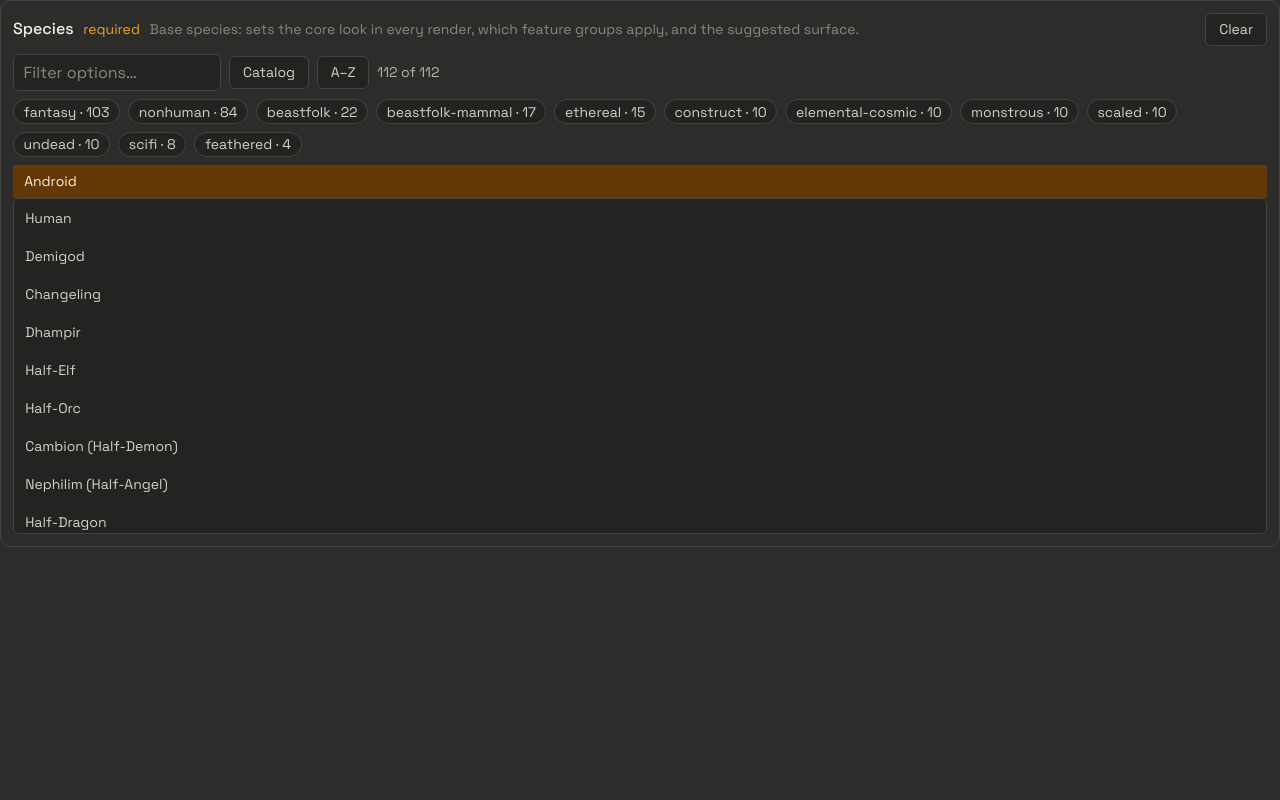
Scenario: sort modes (presentation only) › A–Z reorders; catalog restores the served order
Click the button "A–Z" at (343, 72), box left=317, top=56, right=369, bottom=89
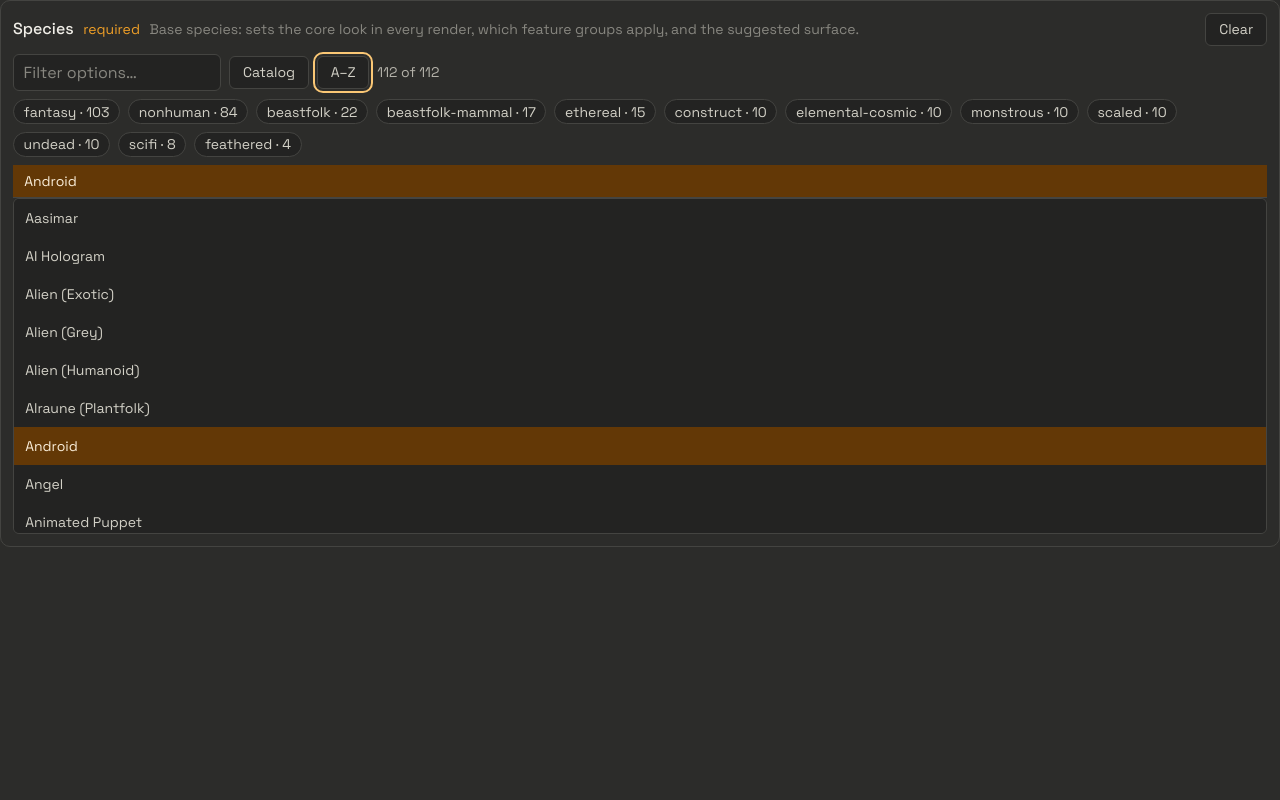
Now the option "Aasimar" is shown, box left=14, top=199, right=1266, bottom=237
Click the button "Catalog" at (269, 72), box left=229, top=56, right=309, bottom=89
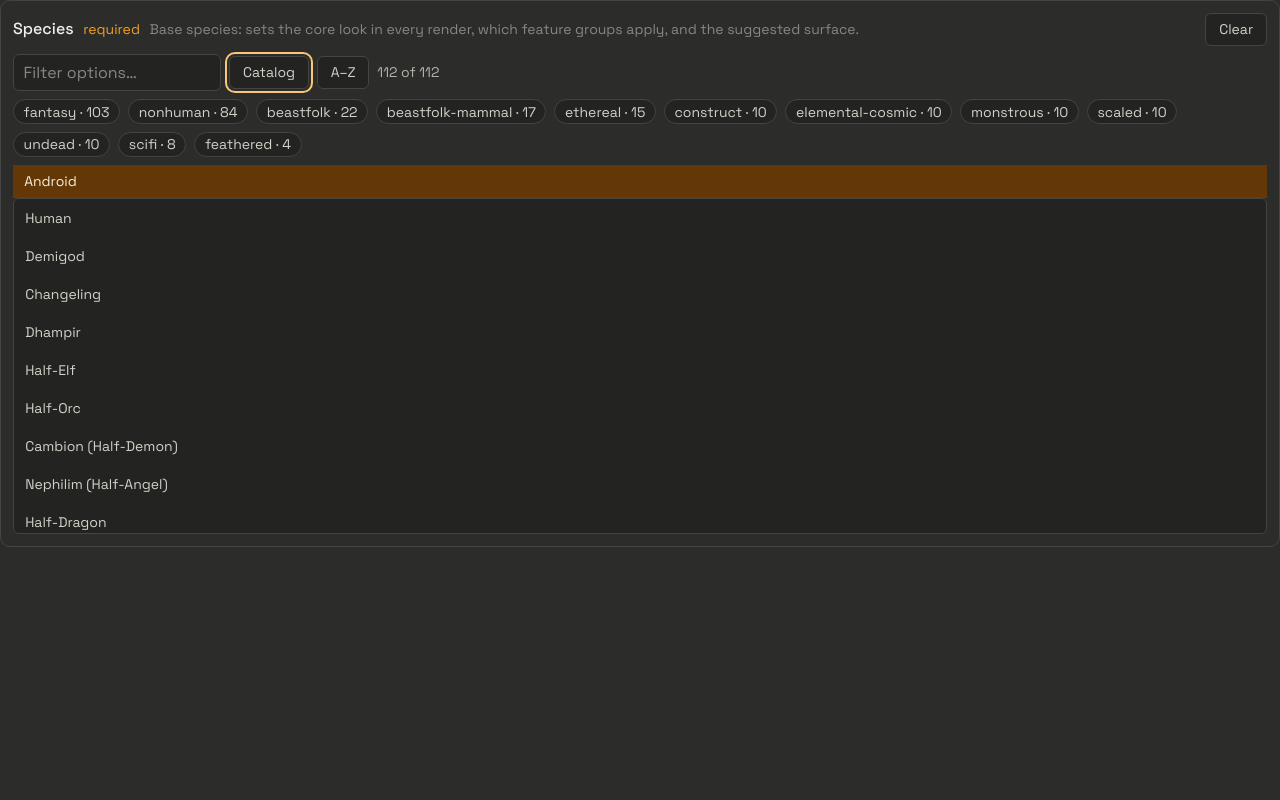
Now the option "Human" is shown, box left=14, top=199, right=1266, bottom=237
